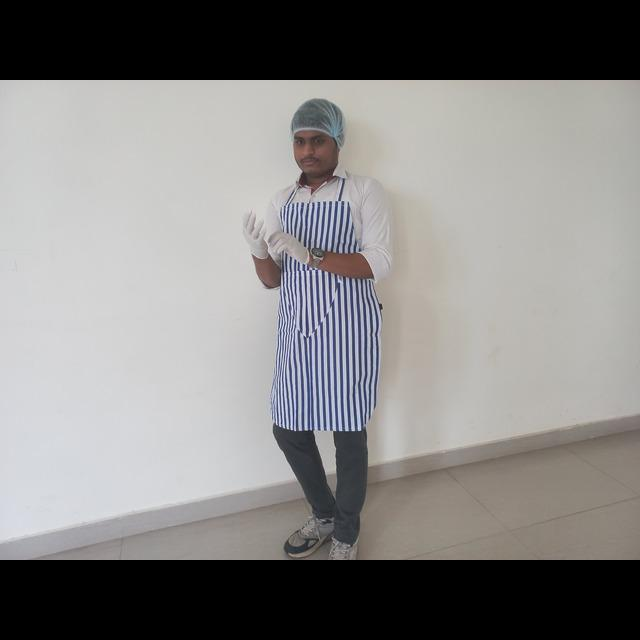gloved_hand: (239, 209, 272, 265), (267, 229, 314, 267)
